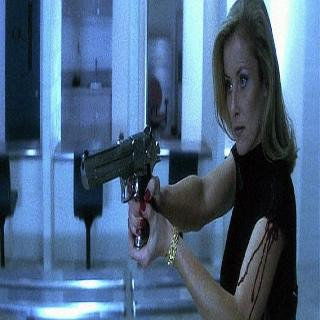gun: (74, 120, 158, 252)
